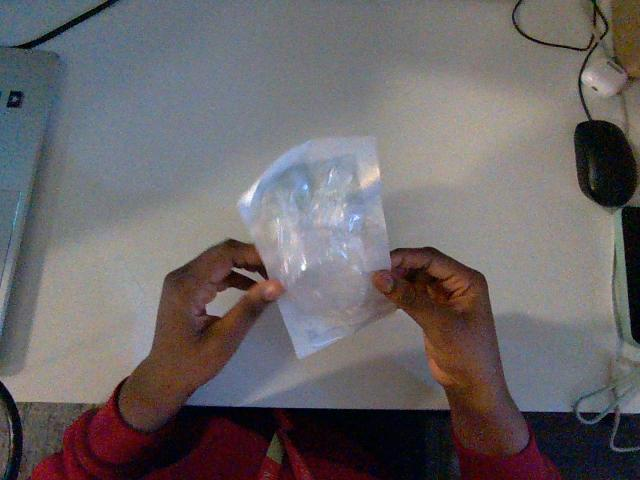gallipot: (238, 137, 393, 357)
